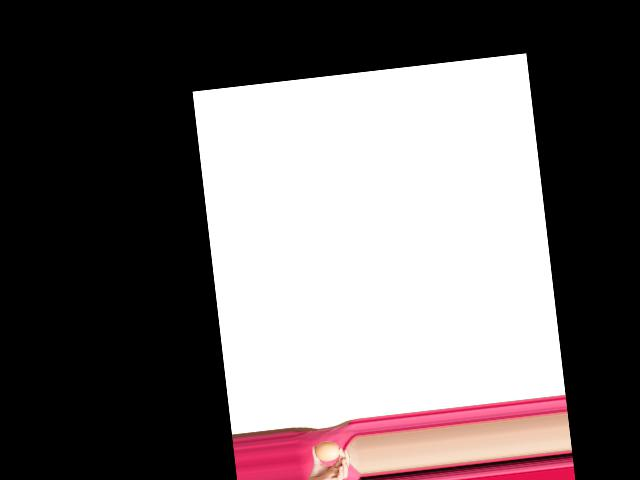egg: (314, 440, 341, 463)
